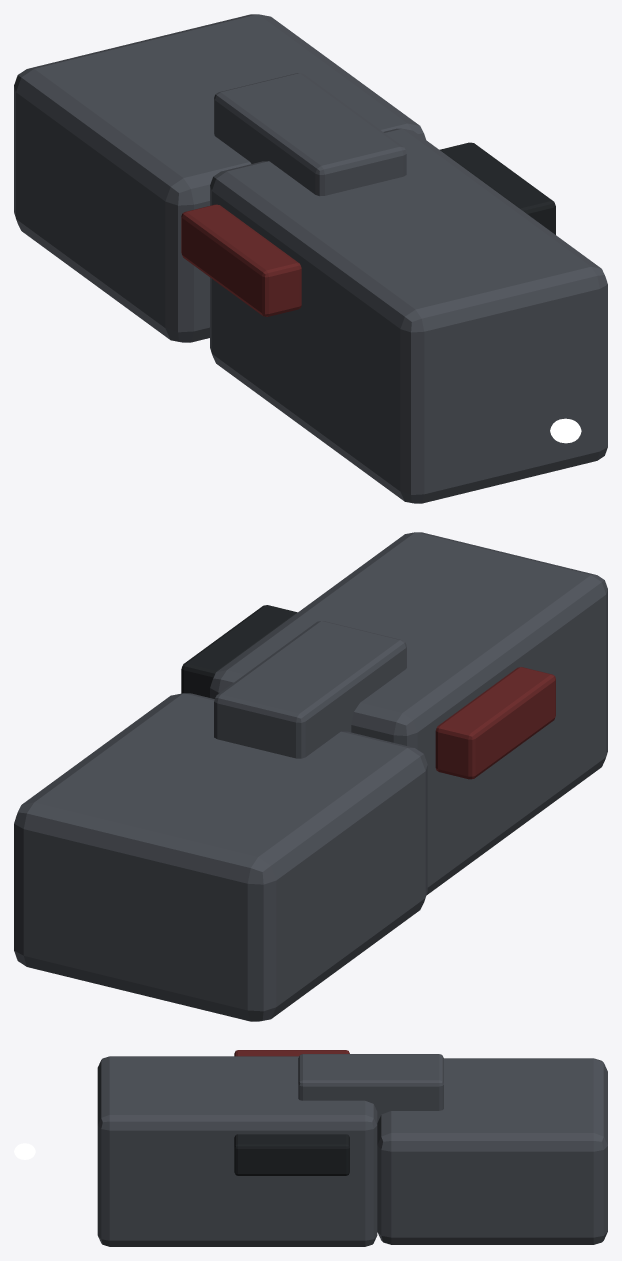
The picture shows the model from 3 angles, top to bottom: view 1: azimuth 30°, elevation 25°; view 2: azimuth 150°, elevation 25°; view 3: azimuth 270°, elevation 25°; orthographic projection. The views are drawn at different scales.
Parts seen in each view (by area): view 1: RIMWARD_HULL; view 2: RIMWARD_HULL; view 3: RIMWARD_HULL, RIMWARD_ENGINE_GLOW.
Boxes of the visible parts, x1=… form: RIMWARD_HULL: x1=14, y1=14, x2=607, y2=503; RIMWARD_HULL: x1=14, y1=532, x2=607, y2=1021; RIMWARD_HULL: x1=97, y1=1050, x2=607, y2=1246; RIMWARD_ENGINE_GLOW: x1=14, y1=1143, x2=35, y2=1159.
Bounding box in the file's own units: 12.11 × 8.74 × 31.3.
